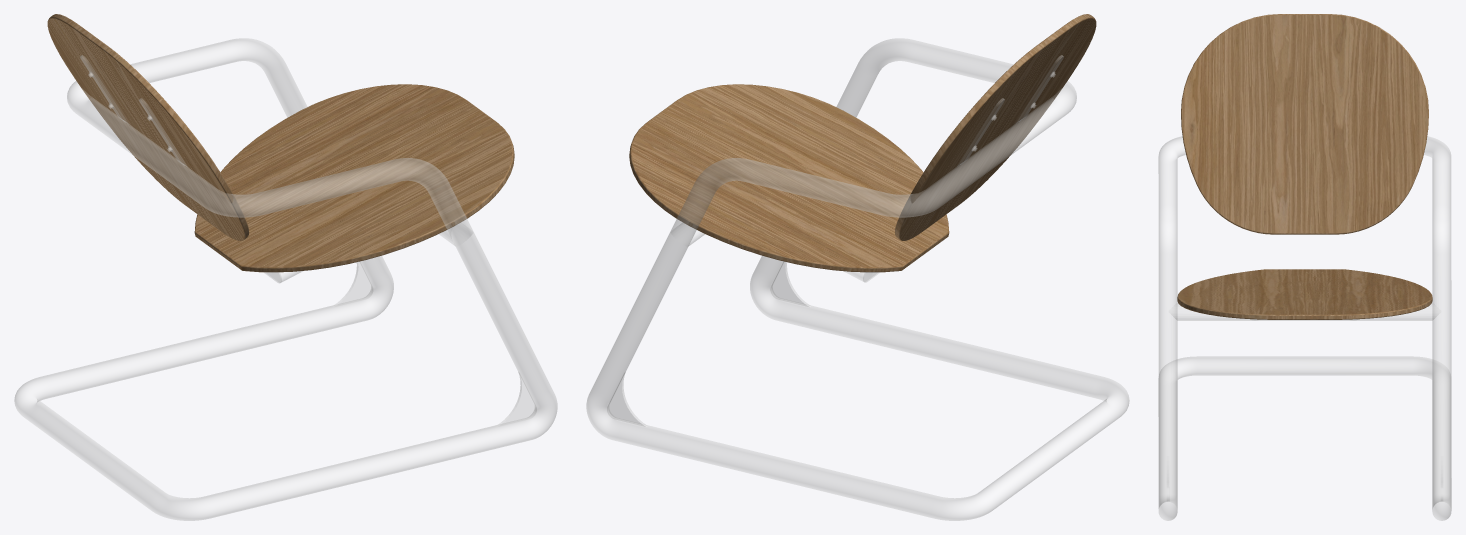
Rendered from des.gltf.
The picture shows the model from 3 angles, left to right: view 1: azimuth 30°, elevation 25°; view 2: azimuth 150°, elevation 25°; view 3: azimuth 270°, elevation 25°; orthographic projection. The views are drawn at different scales.
Visible parts, largest first — view 1: group_12.002, group_3; view 2: group_12.002, group_3; view 3: group_12.002, group_3.
Part boxes in pixels (bbox=[...]): group_12.002: bbox=[47, 14, 514, 272]; group_3: bbox=[14, 38, 557, 520]; group_12.002: bbox=[629, 14, 1096, 272]; group_3: bbox=[586, 38, 1129, 520]; group_12.002: bbox=[1177, 14, 1432, 319]; group_3: bbox=[1158, 136, 1451, 520].
Bounding box in the file's own units: 0.703 × 0.7253 × 0.5351.
Materials: 2 (1 with a texture image).
